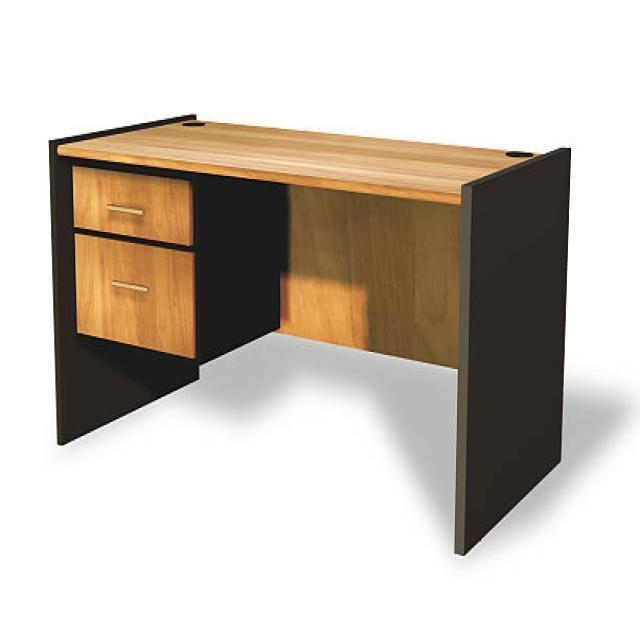table: (48, 112, 570, 554)
